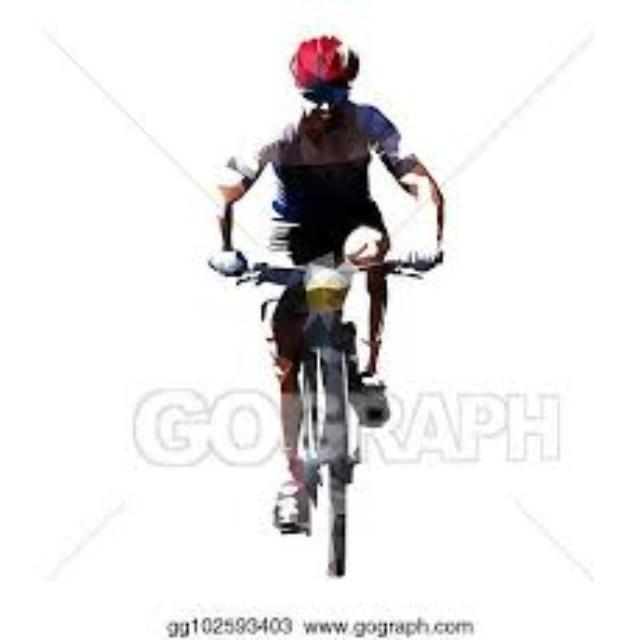obstacle: (202, 241, 460, 577)
